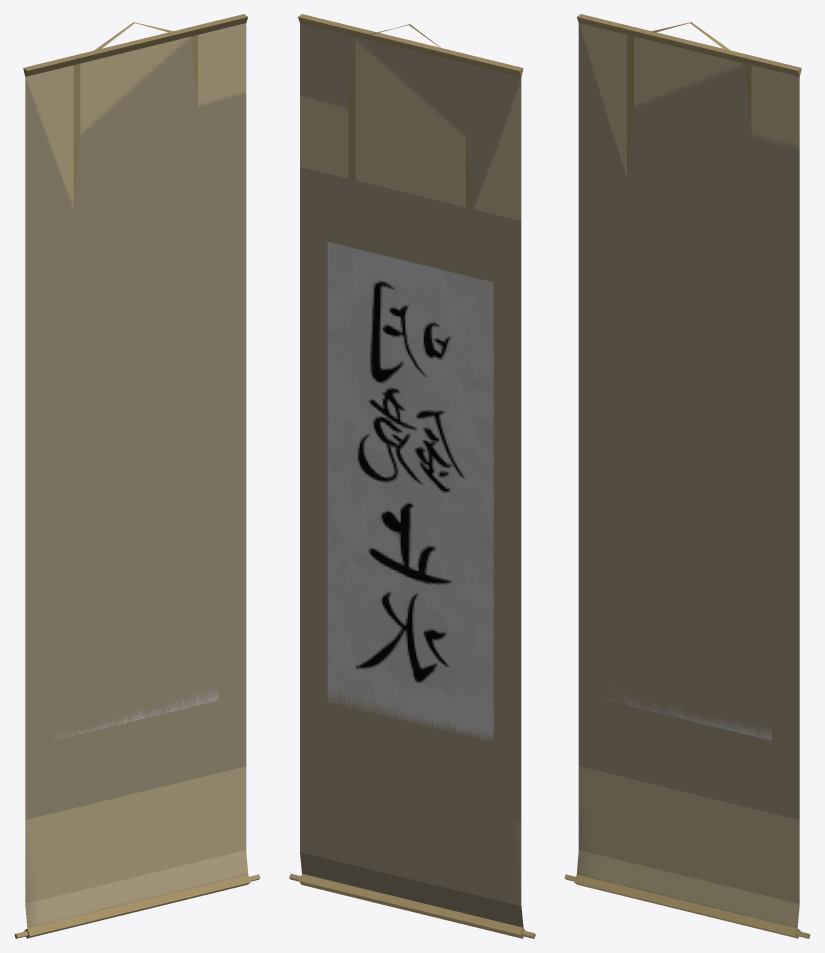
The model's file is Prop_Dojo_HangingScroll_B.fbx.
3 renders of one model, left to right at view 1: azimuth 30°, elevation 25°; view 2: azimuth 150°, elevation 25°; view 3: azimuth 330°, elevation 25°, orthographic.
Parts seen in each view (by area): view 1: Prop_Dojo_HangingScroll_B; view 2: Prop_Dojo_HangingScroll_B; view 3: Prop_Dojo_HangingScroll_B.
Part boxes in pixels (left/top/right/bottom): Prop_Dojo_HangingScroll_B: left=14, top=14, right=260, bottom=938; Prop_Dojo_HangingScroll_B: left=289, top=14, right=535, bottom=938; Prop_Dojo_HangingScroll_B: left=564, top=14, right=810, bottom=938.
Bounding box in the file's own units: 67.32 × 235 × 3.26.
